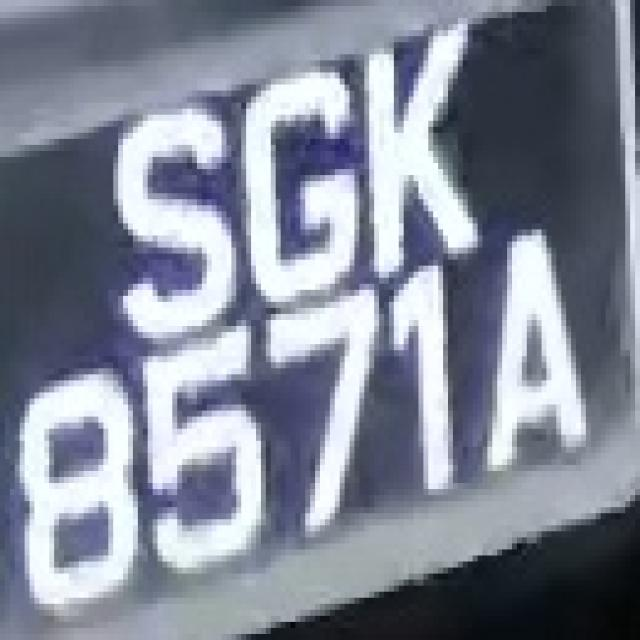1: (374, 248, 463, 489)
5: (128, 326, 276, 592)
7: (261, 296, 389, 543)
8: (5, 368, 153, 634)
A: (472, 217, 596, 495)
G: (241, 48, 384, 308)
K: (360, 12, 488, 266)
S: (98, 97, 242, 350)
